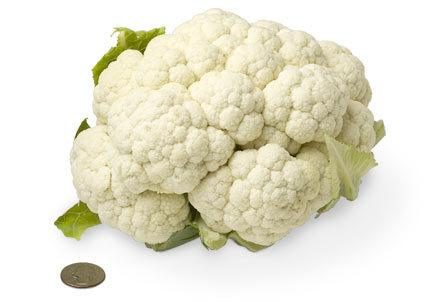cauliflower: (70, 6, 380, 250)
